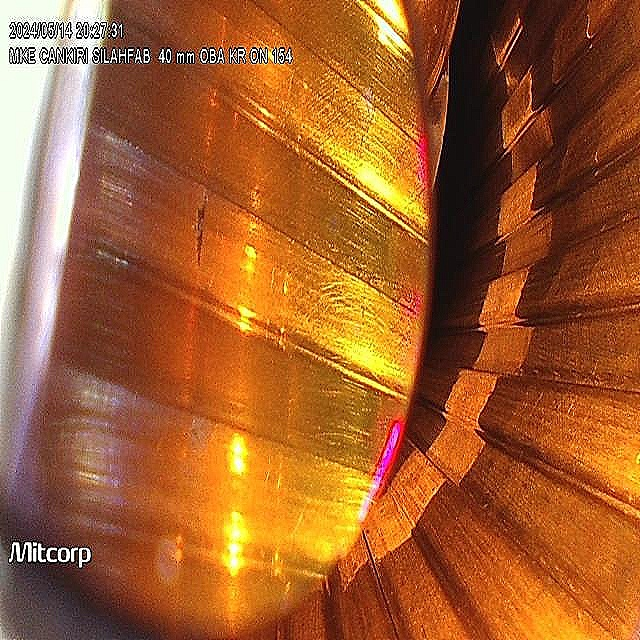hata_9.1: (171, 150, 231, 293)
